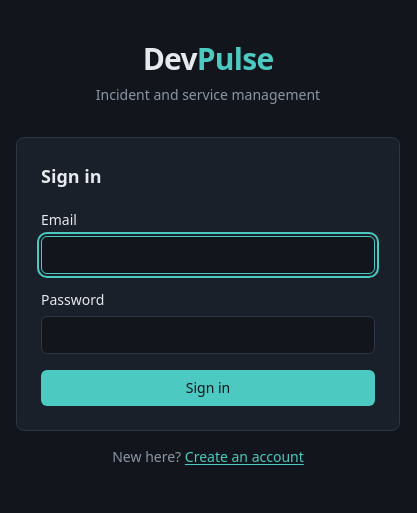
Test: LoginPage › shows the server's error message when credentials are wrong
The image size is (417, 513).
Type "a@b.com" into the field labelled "Email" at (208, 255), box [41,236,375,274]
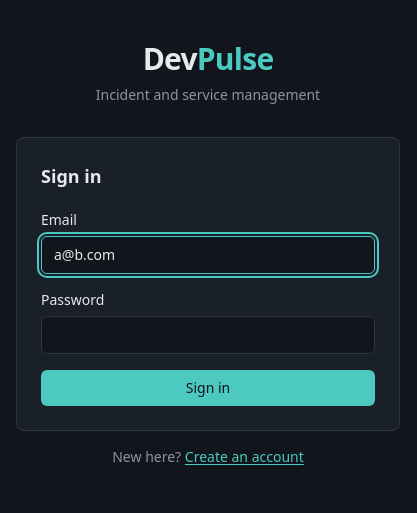
Type "wrong-password" into the password field labelled "Password" at (208, 335), box [41,316,375,354]
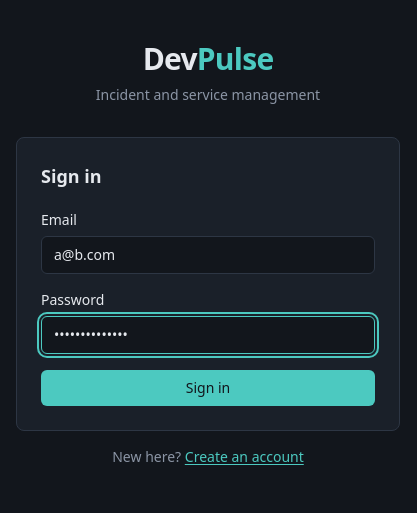
Click the button "Sign in" at (208, 388), box [41,370,375,406]
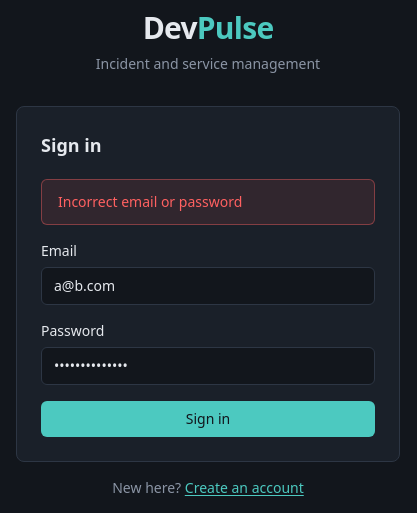
Result: the message reads "Incorrect email or password" at [58,192,242,211]
